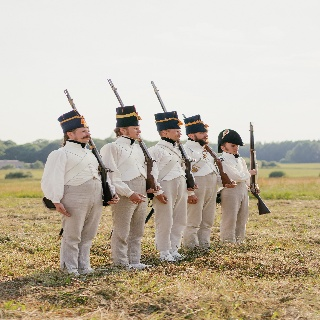rifle: (63, 87, 115, 206), (107, 76, 157, 198), (150, 79, 197, 191), (182, 109, 235, 189), (247, 120, 272, 216)
